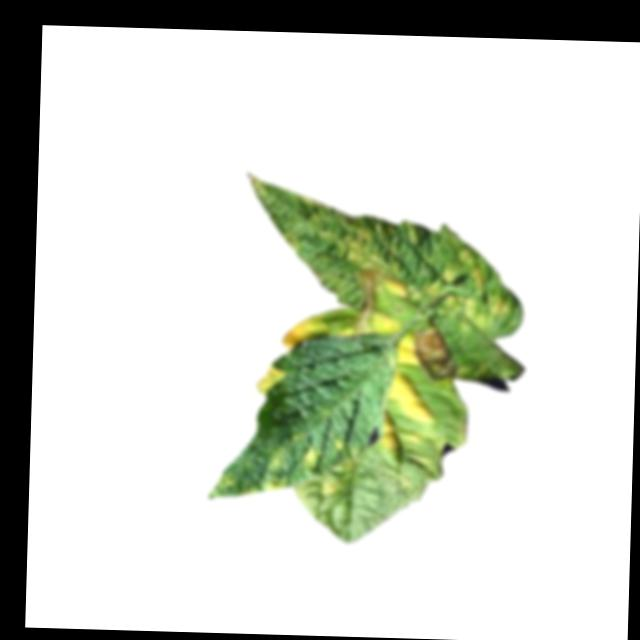Leaf_Mold: (430, 248, 514, 329), (332, 214, 406, 281), (385, 371, 441, 424), (280, 315, 327, 350), (377, 413, 413, 458), (261, 448, 294, 494), (397, 333, 422, 372), (364, 311, 400, 338), (256, 366, 287, 396), (321, 478, 350, 500), (302, 444, 324, 470)
